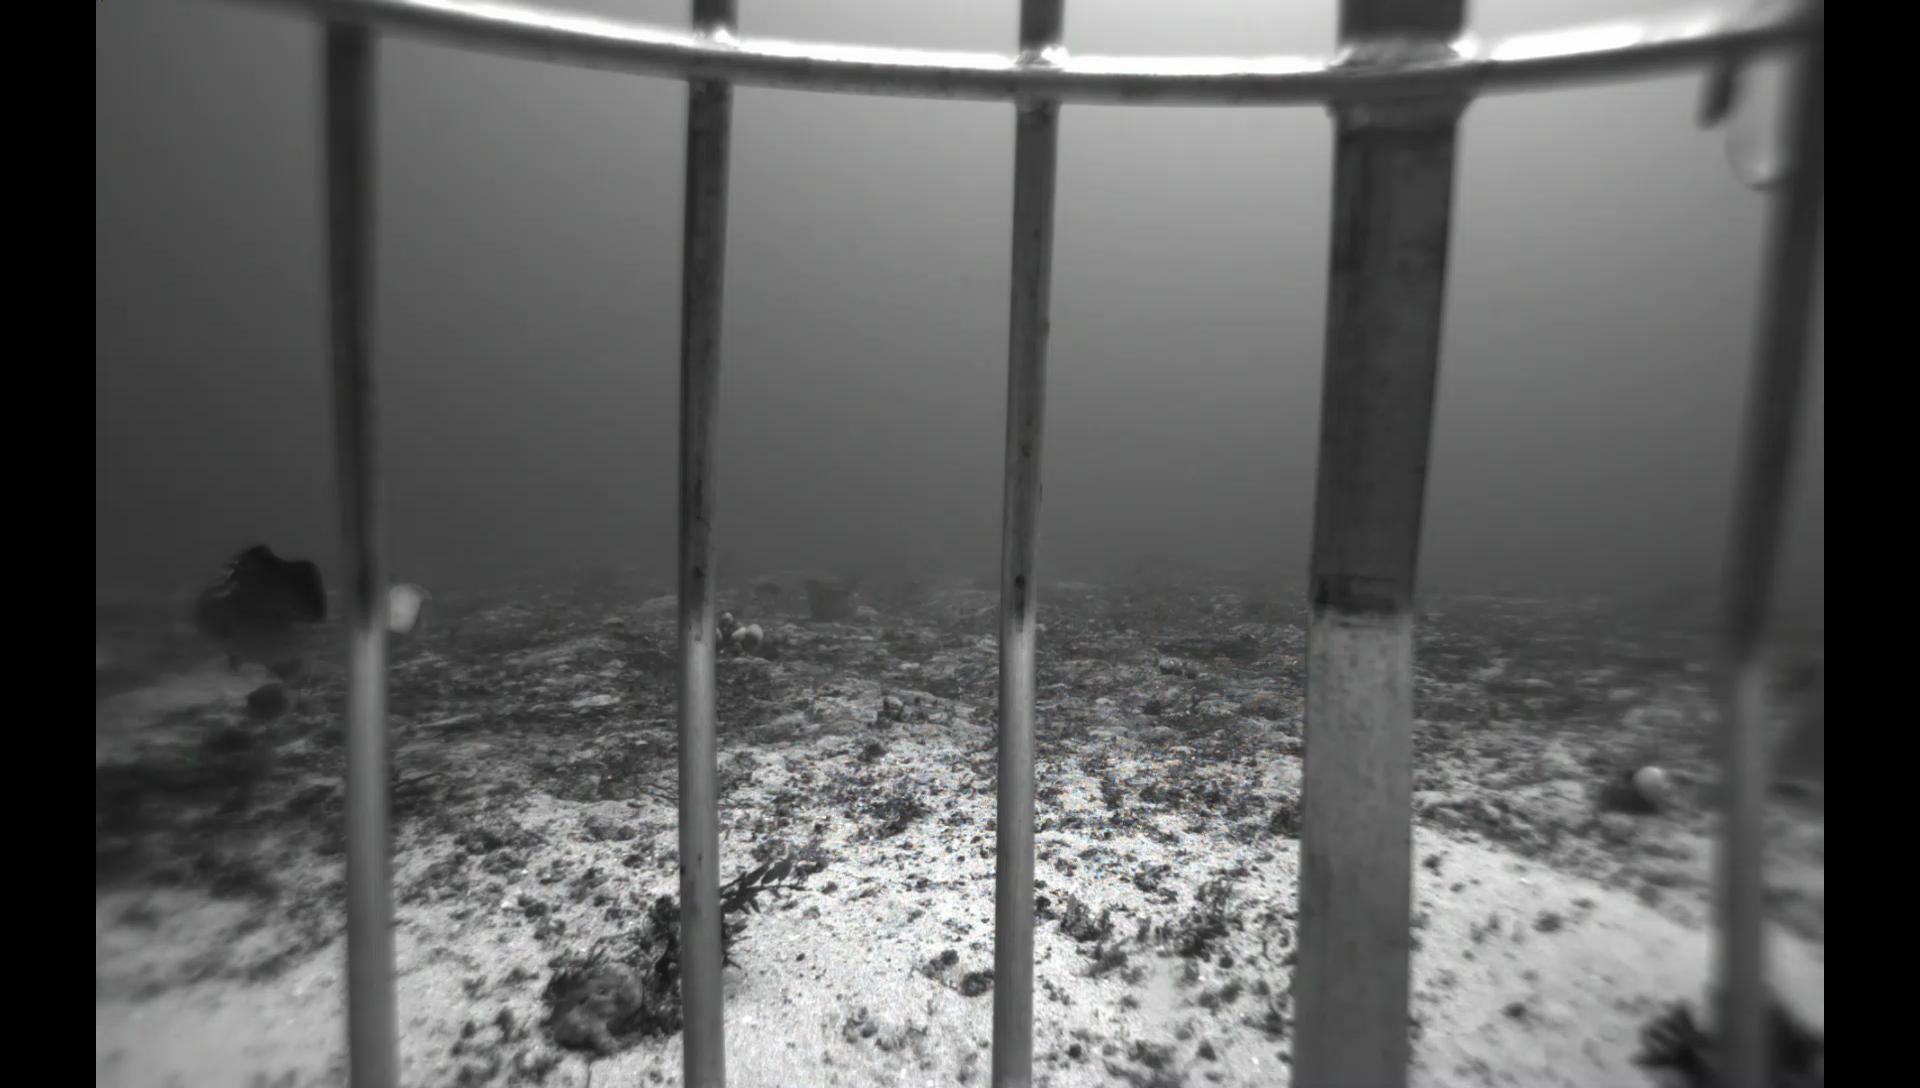CALAMUSNODOSUS-170210608: (1754, 684, 1820, 831)
CHAETODONOCELLATUS-170260307: (388, 580, 438, 644)
EPINEPHELUSMORIO-170021211: (181, 541, 443, 687)
PRISTIGENYSALTA-170050401: (239, 683, 309, 729)
